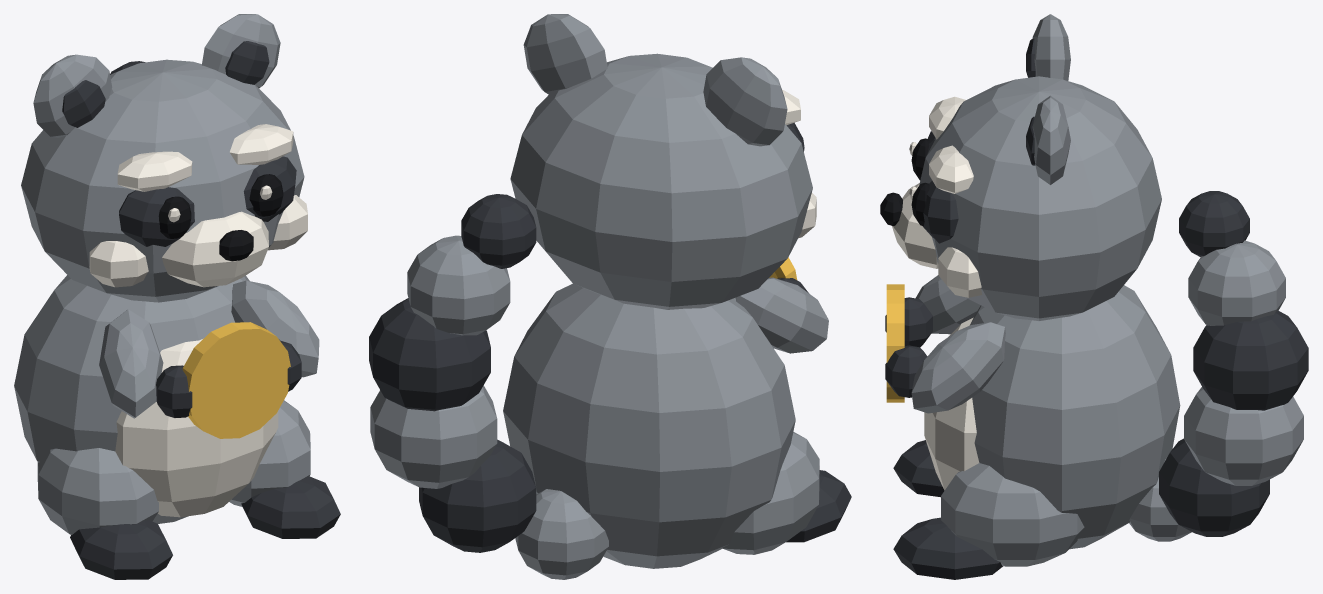
Rendered from coin-raccoon-pet.glb.
3 views of the same model, side by side, from view 1: azimuth 30°, elevation 25°; view 2: azimuth 150°, elevation 25°; view 3: azimuth 270°, elevation 25° (orthographic). The views are drawn at different scales.
Parts seen in each view (by area): view 1: Raccoon_Pet; view 2: Raccoon_Pet; view 3: Raccoon_Pet.
Boxes of the visible parts, left/top/right/bottom form: Raccoon_Pet: left=14, top=14, right=340, bottom=579; Raccoon_Pet: left=369, top=14, right=851, bottom=579; Raccoon_Pet: left=880, top=14, right=1308, bottom=579.
Size of the model in its own units: 1.58 by 2.5 by 2.06.
